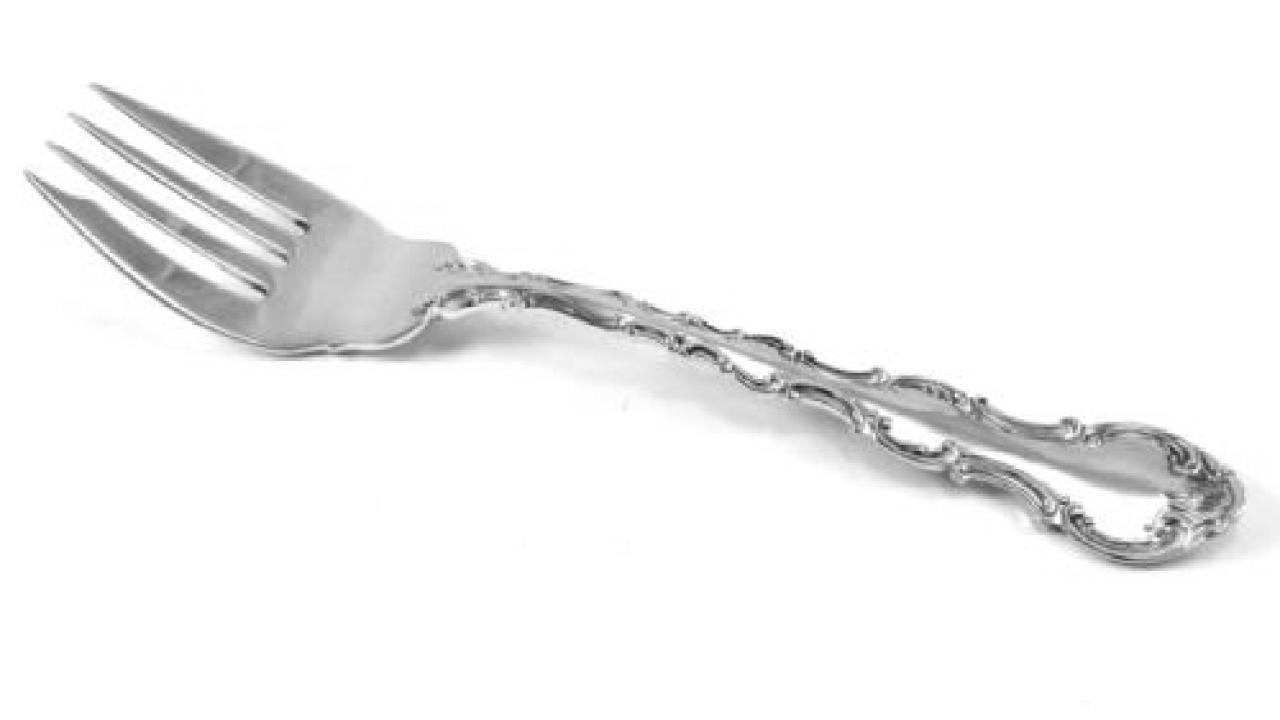fork: (21, 77, 1244, 566)
